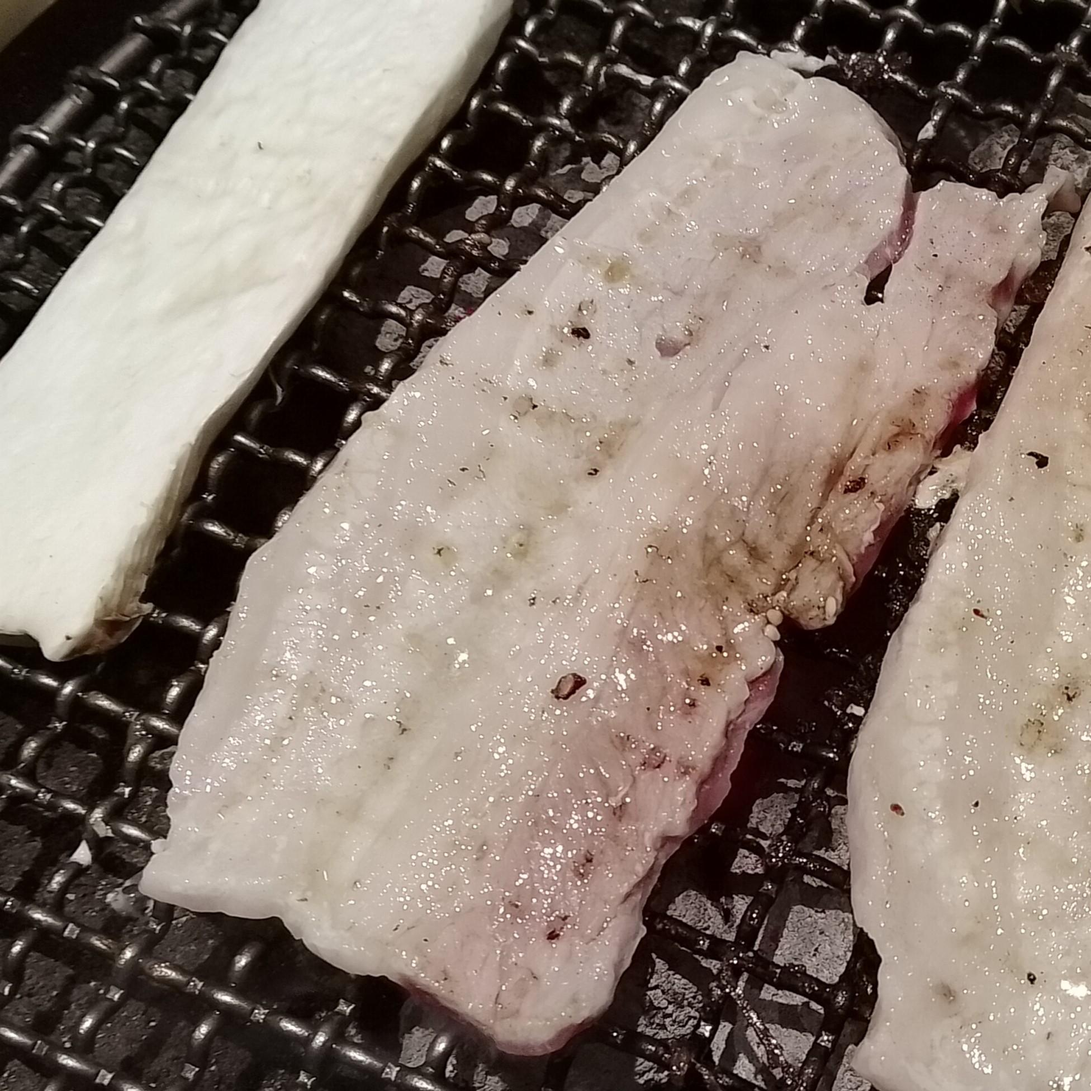Well-Cooked: (136, 54, 1090, 1060)
